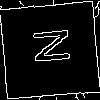N: (24, 25, 71, 67)
